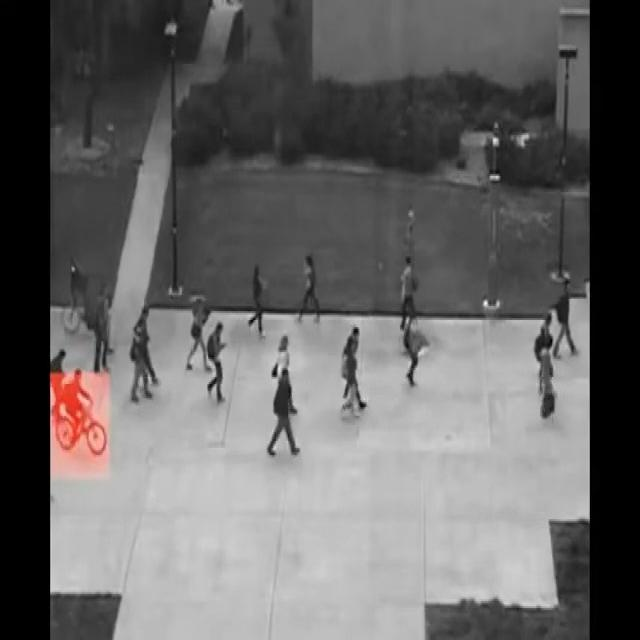anamoly: (51, 243, 131, 339), (48, 358, 128, 453)
